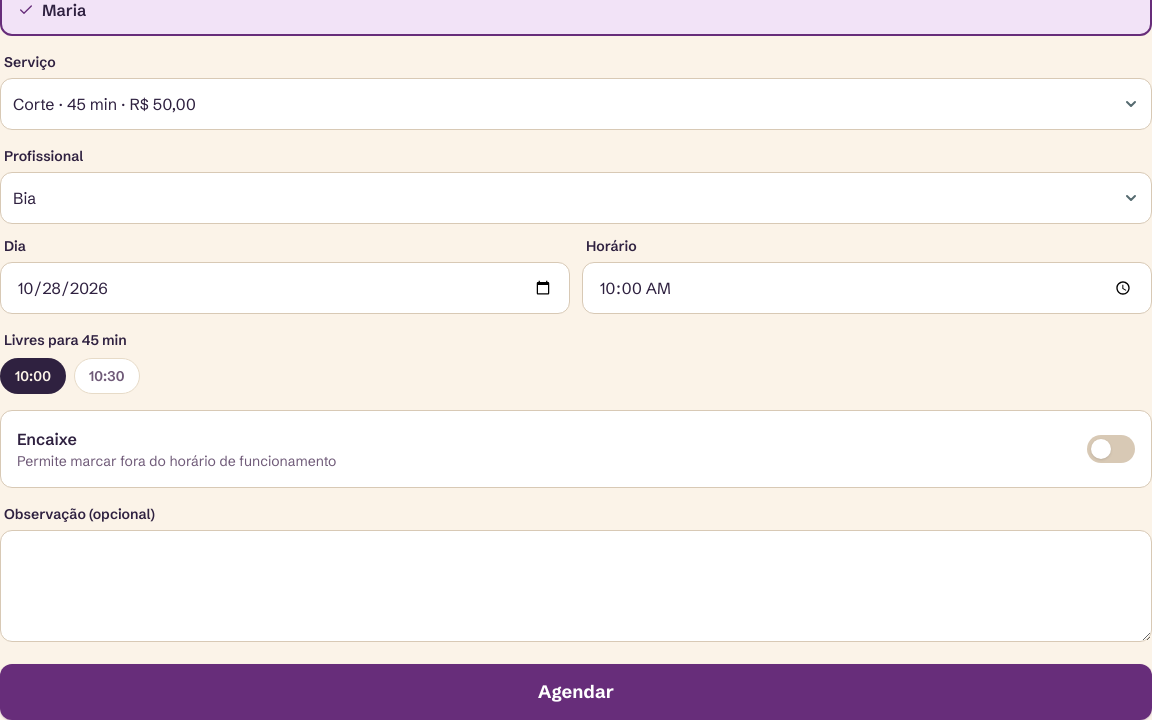
Test: NewAppointmentSheet › erro da API aparece no próprio painel, com o motivo
(page scrolled)
Click the button "Agendar" at {"x": 576, "y": 692}, box [0,664,1151,719]
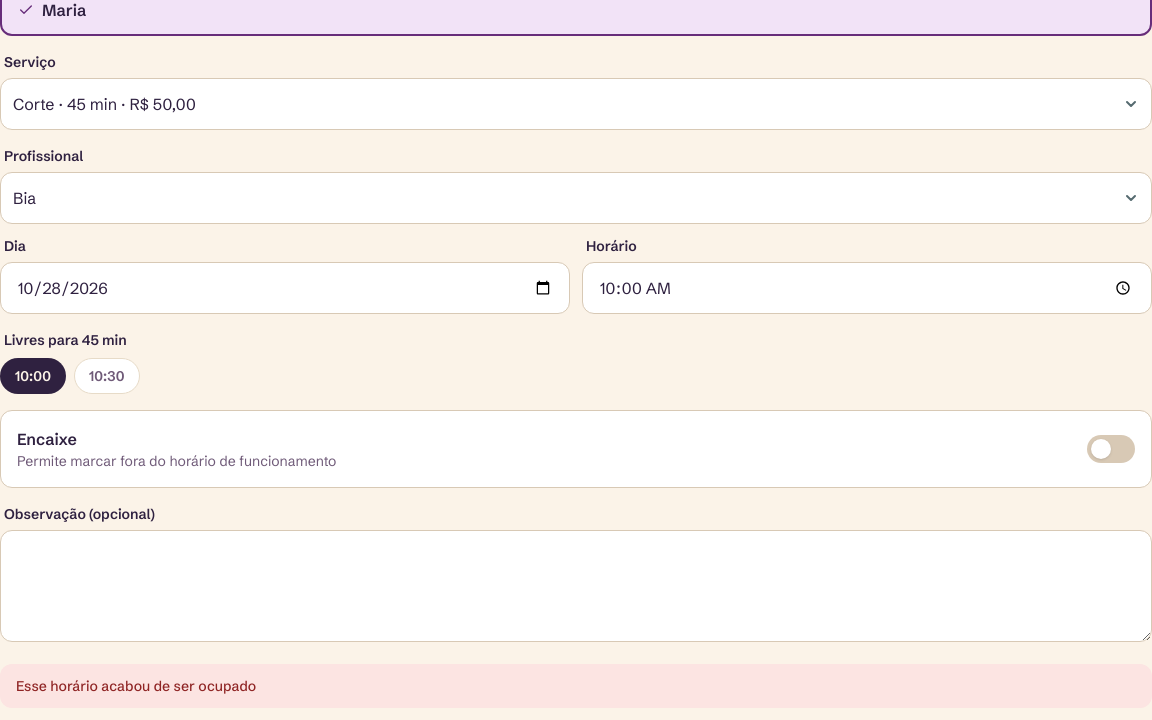
Expected: the message reads "Esse horário acabou de ser ocupado", [16,677,256,695]
